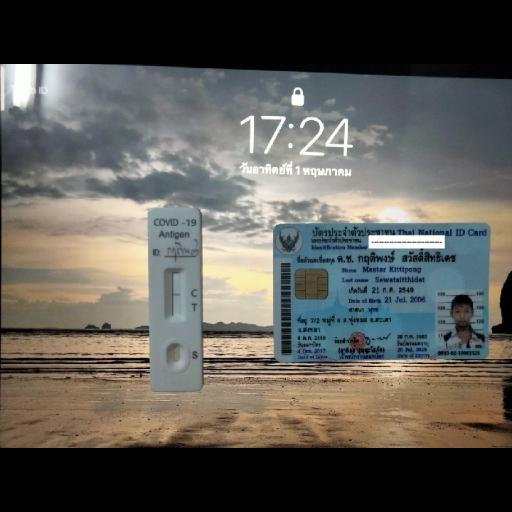Neg: (147, 208, 203, 388)
